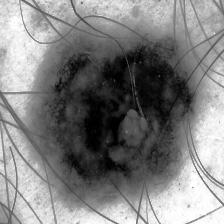Benign Marking or Mole: (51, 40, 184, 178)
